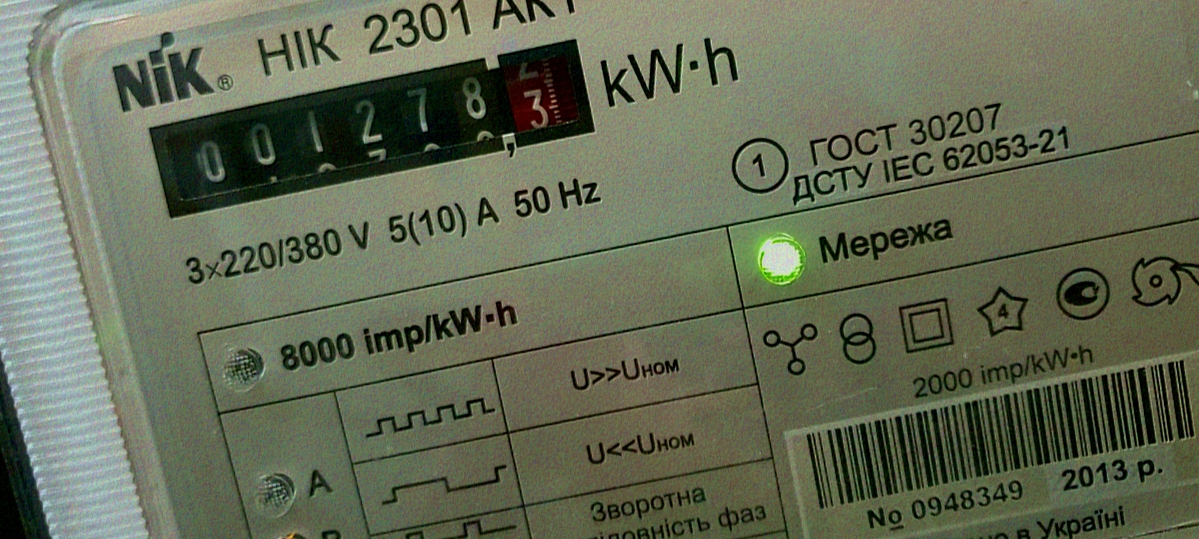0: (195, 136, 230, 187), (246, 120, 277, 170)
1: (304, 107, 327, 157)
2: (351, 97, 384, 147), (512, 60, 541, 84)
3: (519, 84, 551, 131)
7: (405, 85, 433, 136)
8: (458, 74, 489, 124)
screen: (124, 27, 616, 232)
